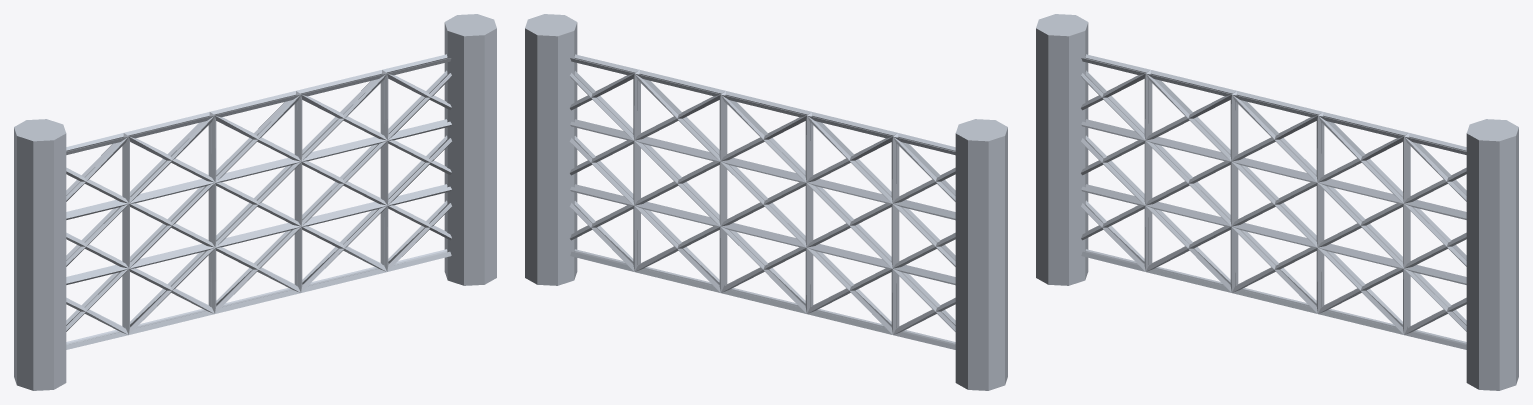
File: wired-fence.fbx
3 views of the same model, side by side, from view 1: azimuth 30°, elevation 25°; view 2: azimuth 150°, elevation 25°; view 3: azimuth 330°, elevation 25° (orthographic).
Visible parts, largest first — view 1: 14. wired-fence; view 2: 14. wired-fence; view 3: 14. wired-fence.
Boxes of the visible parts, x1,y1,x2,y2 form: 14. wired-fence: (14,14,496,390); 14. wired-fence: (525,14,1007,390); 14. wired-fence: (1036,14,1518,390).
Bounding box in the file's own units: 2 × 1 × 0.2.
